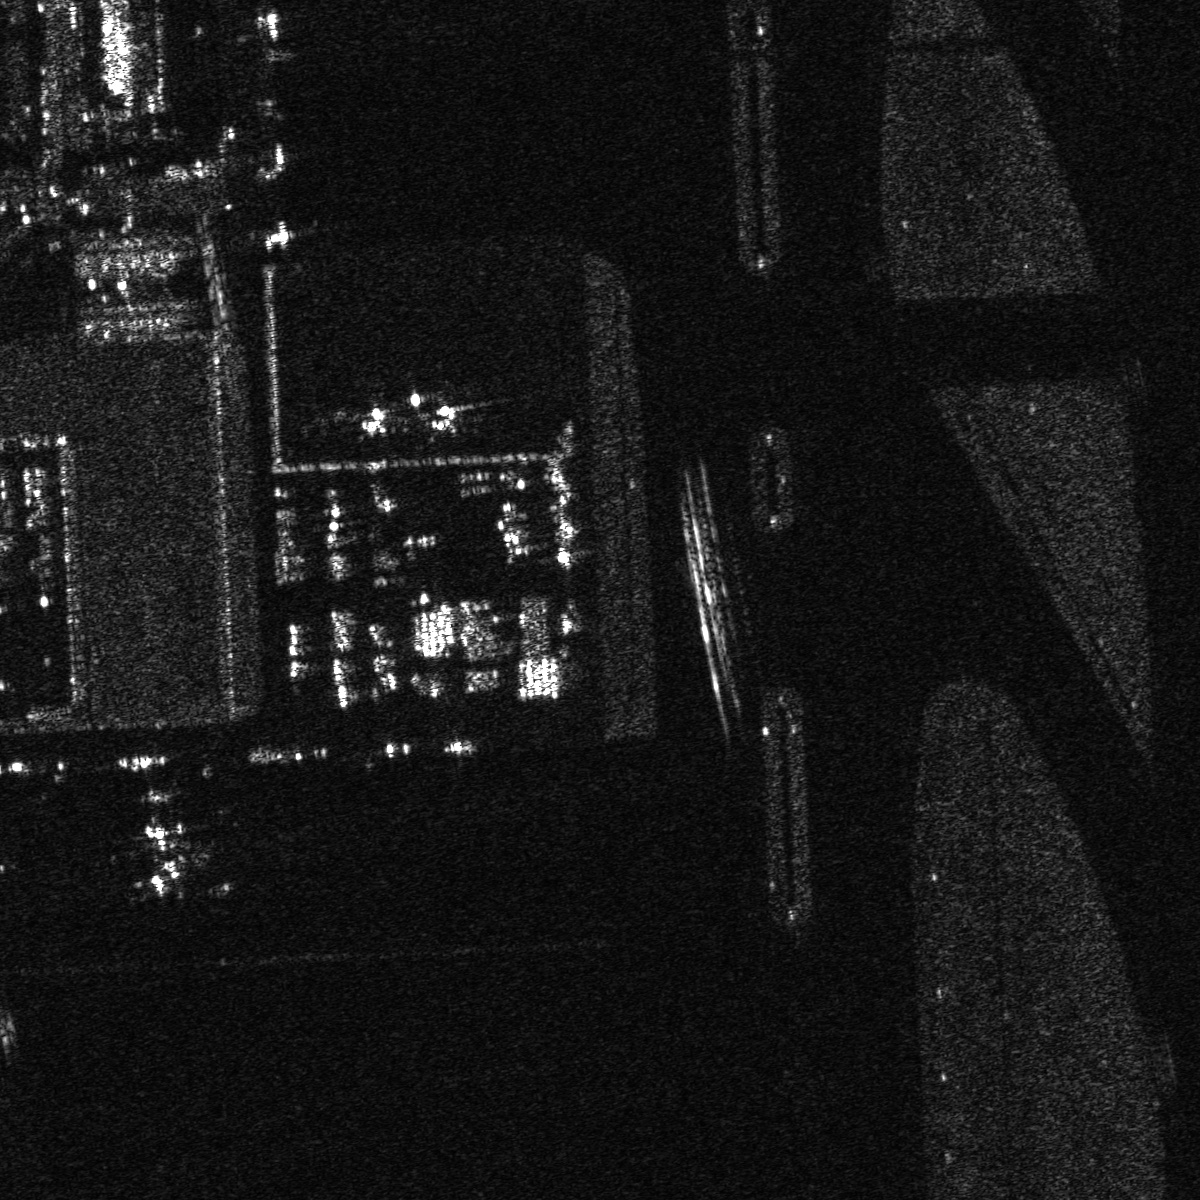ARJ21: (346, 387, 413, 448)
other: (111, 804, 227, 909), (418, 384, 514, 432)
